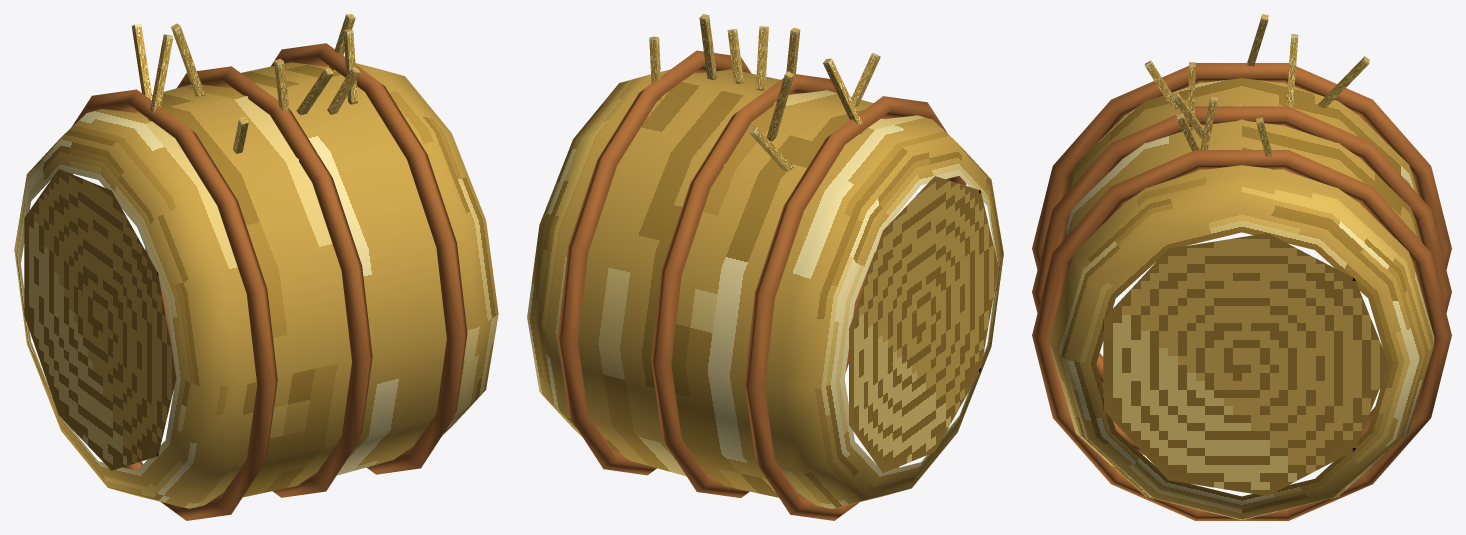
The model's file is trigo.glb.
3 renders of one model, left to right at view 1: azimuth 30°, elevation 25°; view 2: azimuth 150°, elevation 25°; view 3: azimuth 270°, elevation 25°, orthographic. The views are drawn at different scales.
Visible parts, largest first — view 1: trigo; view 2: trigo; view 3: trigo.
Boxes of the visible parts, x1,y1,x2,y2 form: trigo: [14, 14, 498, 520]; trigo: [527, 14, 1003, 520]; trigo: [1032, 14, 1451, 520].
Bounding box in the file's own units: 0.401 × 0.5505 × 0.49.
3 materials, 2 textured.
